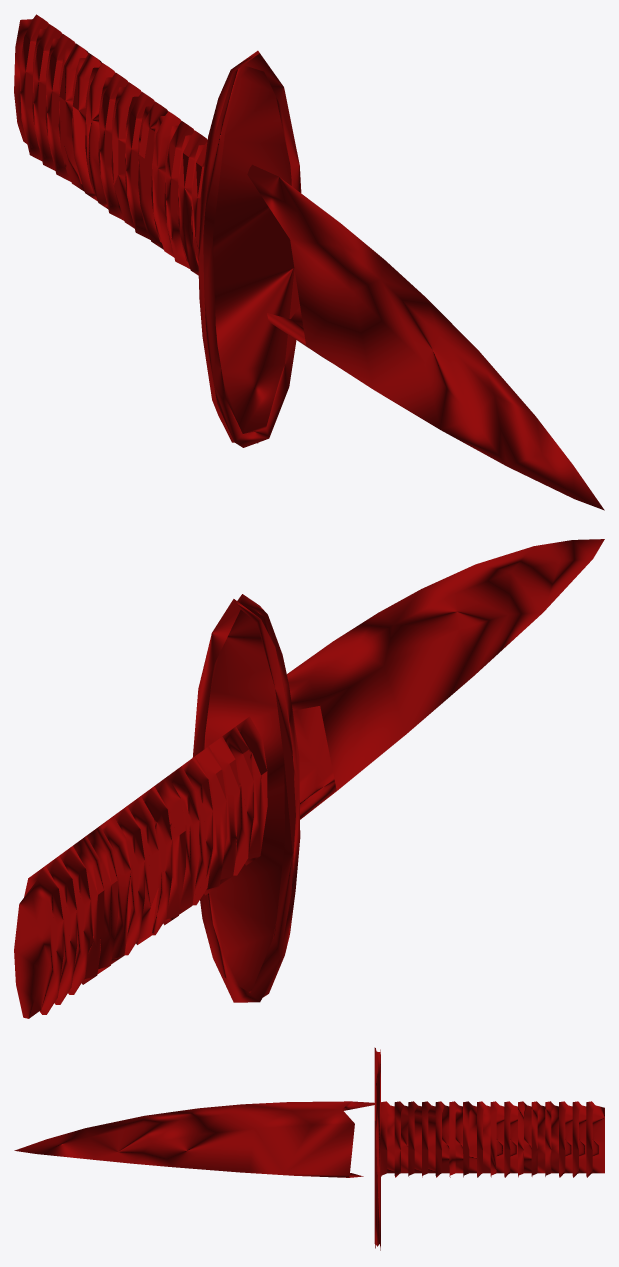
The model's file is model_align.obj.
3 renders of one model, top to bottom at view 1: azimuth 30°, elevation 25°; view 2: azimuth 150°, elevation 25°; view 3: azimuth 270°, elevation 25°, orthographic. The views are drawn at different scales.
Bounding box in the file's own units: 0.0197 × 0.0737 × 0.1932.
